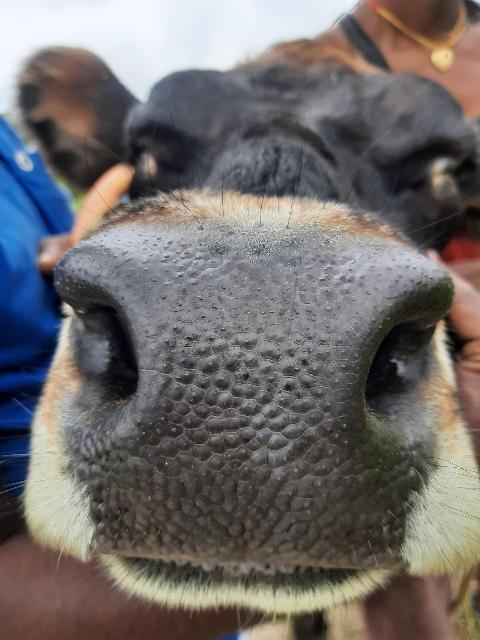Muzzle: (94, 242, 390, 566)
